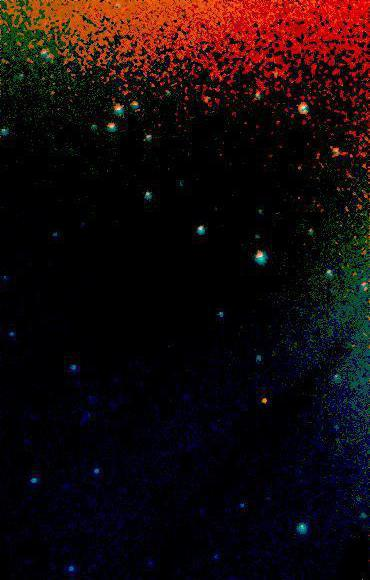star: (249, 385, 279, 415)
